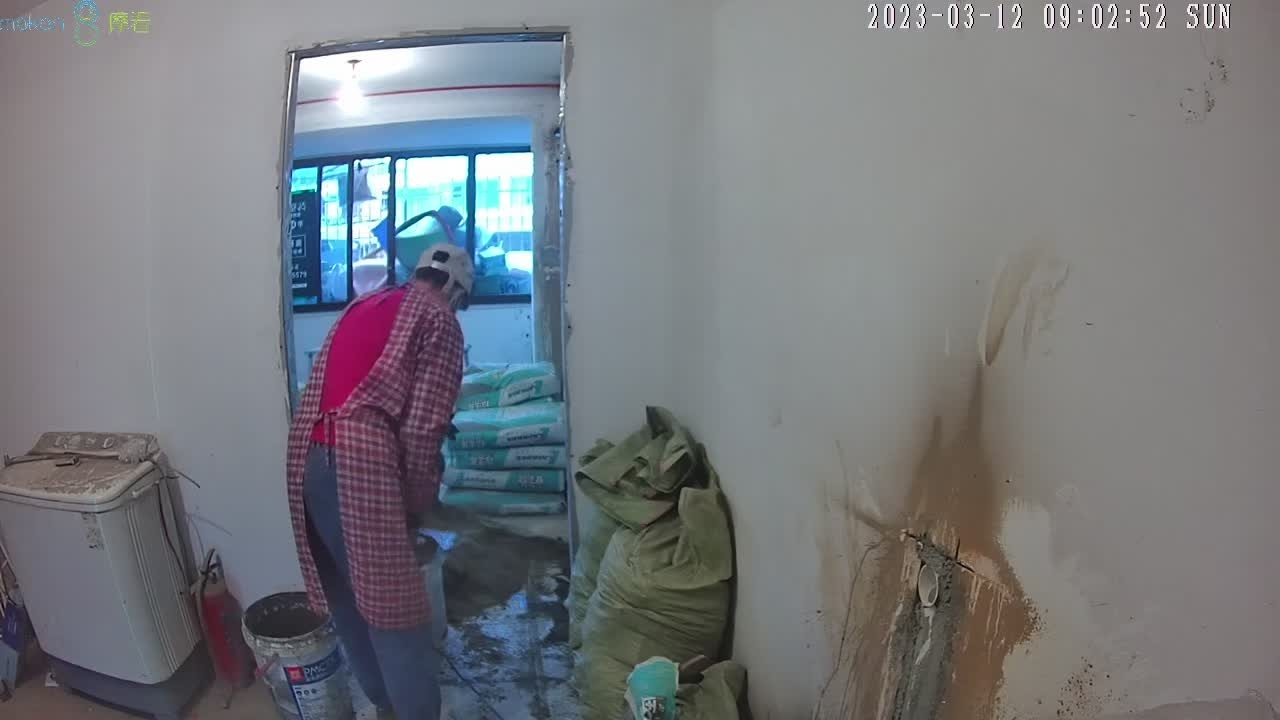people: (285, 244, 475, 720)
window: (292, 154, 537, 306)
